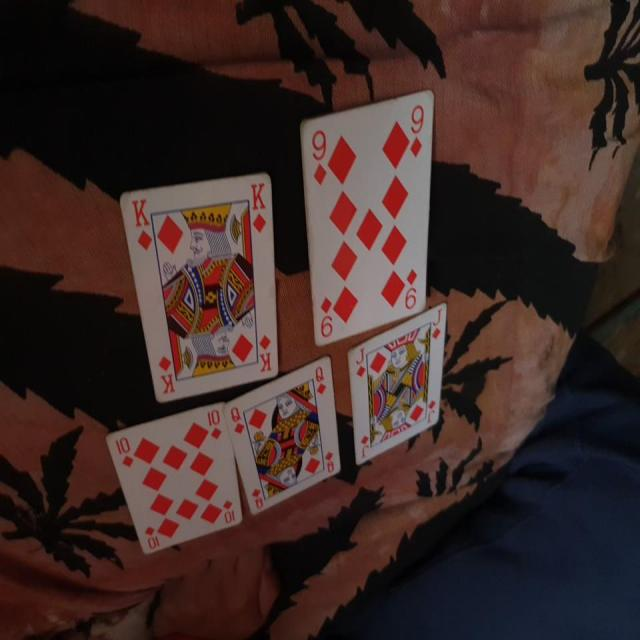10 Diamonds: (104, 402, 245, 556)
9 Diamonds: (295, 89, 434, 345)
J Diamonds: (346, 298, 447, 469)
K Diamonds: (119, 170, 279, 402)
Q Diamonds: (222, 354, 343, 517)
